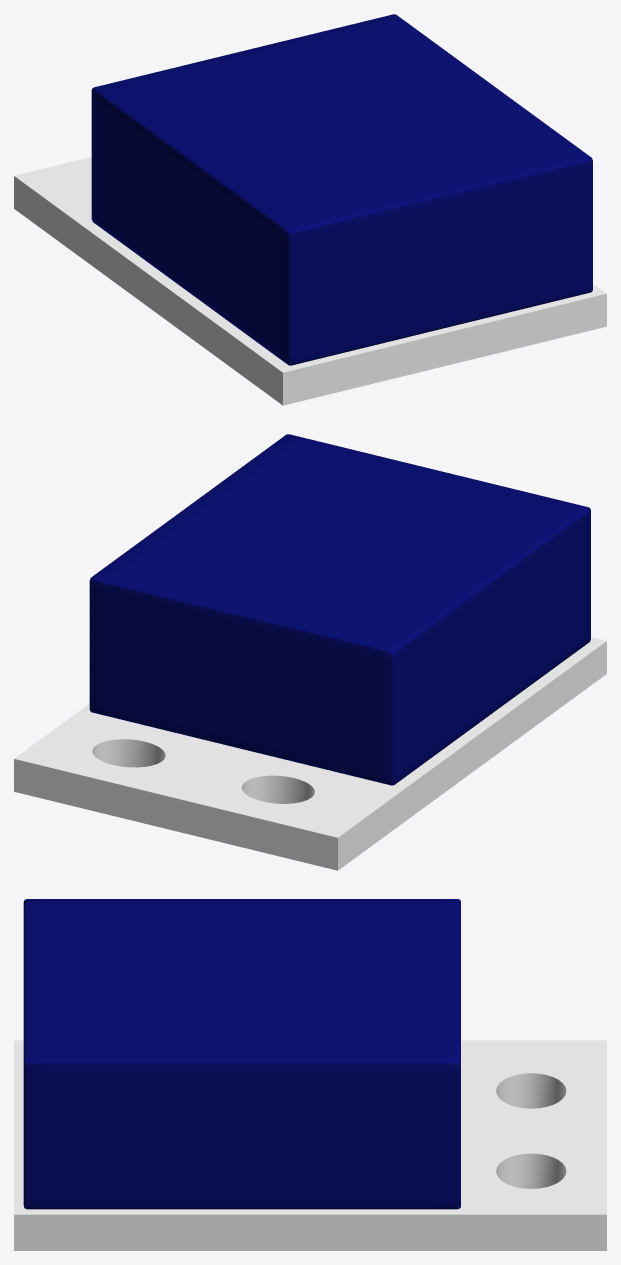
Rendered from inclinometer.fbx.
3 renders of one model, top to bottom at view 1: azimuth 30°, elevation 25°; view 2: azimuth 150°, elevation 25°; view 3: azimuth 270°, elevation 25°, orthographic. The views are drawn at different scales.
Visible parts, largest first — view 1: qingxieyi; view 2: qingxieyi; view 3: qingxieyi.
Part boxes in pixels (x1=…): qingxieyi: x1=14, y1=14, x2=606, y2=405; qingxieyi: x1=14, y1=434, x2=606, y2=870; qingxieyi: x1=14, y1=899, x2=606, y2=1250.
Bounding box in the file's own units: 61.68 × 30.46 × 88.73.
